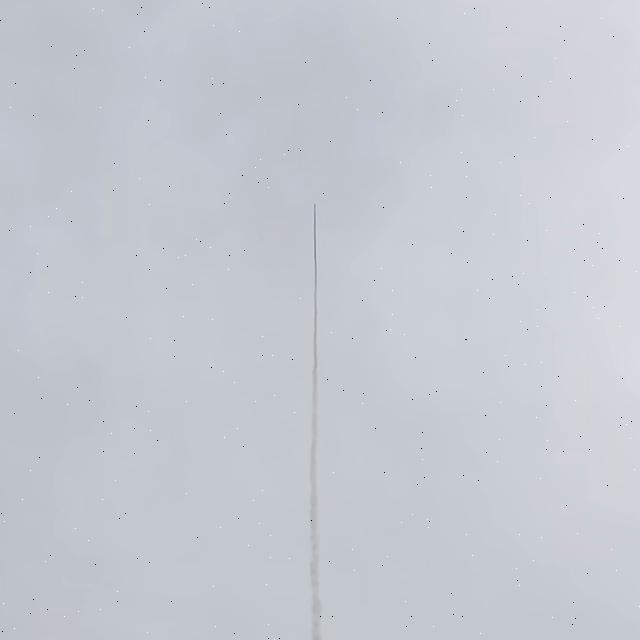smoke_trail_with_rocket: (308, 204, 320, 640)
